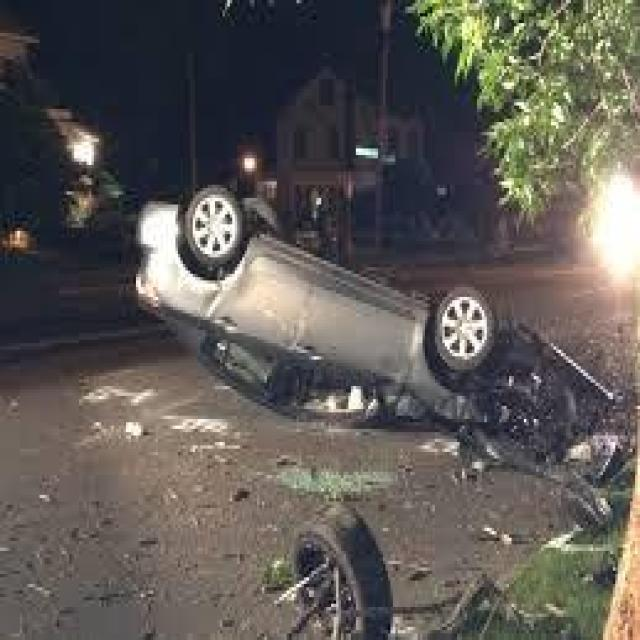severe: (126, 176, 502, 418)
